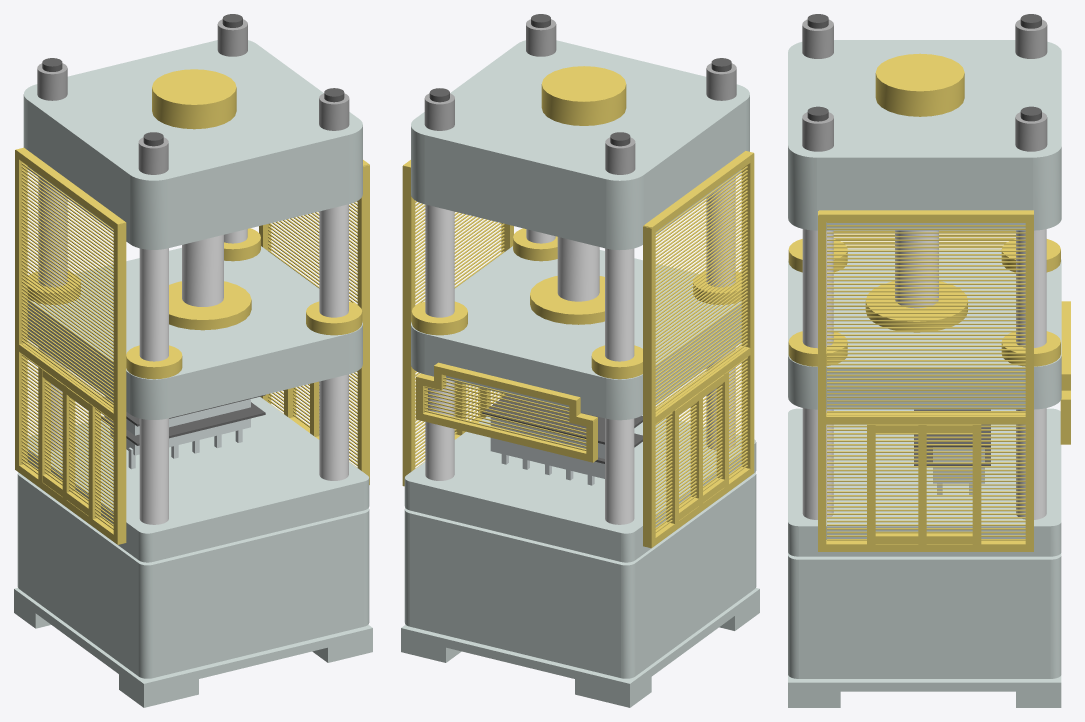
File: pressOne.glb
3 renders of one model, left to right at view 1: azimuth 30°, elevation 25°; view 2: azimuth 150°, elevation 25°; view 3: azimuth 270°, elevation 25°, orthographic. The views are drawn at different scales.
Visible parts, largest first — view 1: 立方体_3_3, 立方体_3_2, 立方体_2, 立方体_1, 立方体_2_2, 圆柱_4, 圆柱_6, 圆柱_19, 立方体_22_3, 立方体_1_2, 立方体_1_3, 圆柱_10 (+20 smaller); view 2: 立方体_3_3, 立方体_3_2, 立方体_2, 立方体_1, 立方体_2_2, 圆柱, 圆柱_2, 圆柱_19, 立方体_1_3, 立方体_22_2, 立方体_22_3, 圆柱_4 (+21 smaller); view 3: 立方体_3_3, 立方体_3_2, 立方体_2, 立方体_1, 立方体_2_2, 圆柱_19, 圆柱_6, 圆柱_2, 立方体_22_2, 立方体_1_2, 立方体_4, 立方体_8_2 (+40 smaller).
Part boxes in pixels (x1,y1,x2,y2): 立方体_3_3: [23, 40, 362, 249]; 立方体_3_2: [17, 472, 369, 678]; 立方体_2: [27, 246, 362, 419]; 立方体_1: [27, 397, 369, 562]; 立方体_2_2: [14, 588, 372, 707]; 圆柱_4: [139, 248, 168, 524]; 圆柱_6: [319, 204, 348, 480]; 圆柱_19: [152, 69, 236, 129]; 立方体_22_3: [113, 222, 126, 537]; 立方体_1_2: [357, 165, 369, 477]; 立方体_1_3: [15, 150, 27, 465]; 圆柱_10: [182, 235, 223, 306]; 立方体_3_3: [411, 40, 749, 250]; 立方体_3_2: [404, 472, 756, 678]; 立方体_2: [411, 246, 741, 420]; 立方体_1: [404, 415, 756, 562]; 立方体_2_2: [401, 588, 759, 707]; 圆柱: [605, 248, 634, 524]; 圆柱_2: [425, 204, 454, 480]; 圆柱_19: [541, 66, 626, 125]; 立方体_1_3: [643, 225, 655, 540]; 立方体_22_2: [402, 166, 415, 478]; 立方体_22_3: [741, 153, 754, 468]; 圆柱_4: [706, 177, 735, 449]; 立方体_3_3: [788, 40, 1061, 230]; 立方体_3_2: [788, 553, 1061, 678]; 立方体_2: [788, 249, 1061, 409]; 立方体_1: [788, 408, 1061, 556]; 立方体_2_2: [788, 675, 1061, 707]; 圆柱_19: [875, 53, 964, 116]; 圆柱_6: [802, 229, 833, 519]; 圆柱_2: [1016, 229, 1046, 519]; 立方体_22_2: [1025, 215, 1033, 544]; 立方体_1_2: [818, 211, 826, 544]; 立方体_4: [819, 412, 1033, 424]; 立方体_8_2: [819, 210, 1033, 222].
Size of the model in its own units: 0.5382 by 1.14 by 0.5003.
